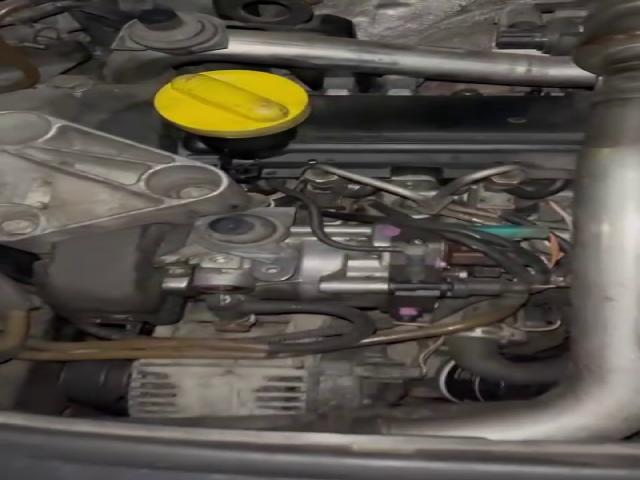alternator: (124, 344, 428, 417)
high_pressure_pump: (165, 222, 491, 322)
